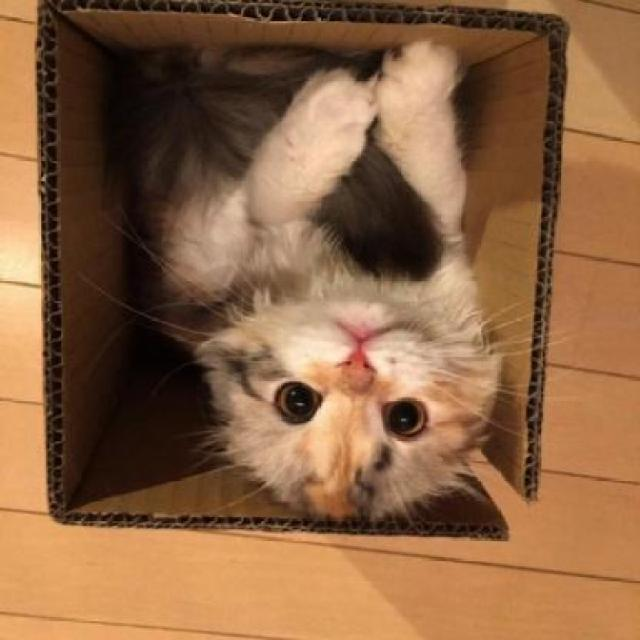cat: (110, 38, 512, 518)
